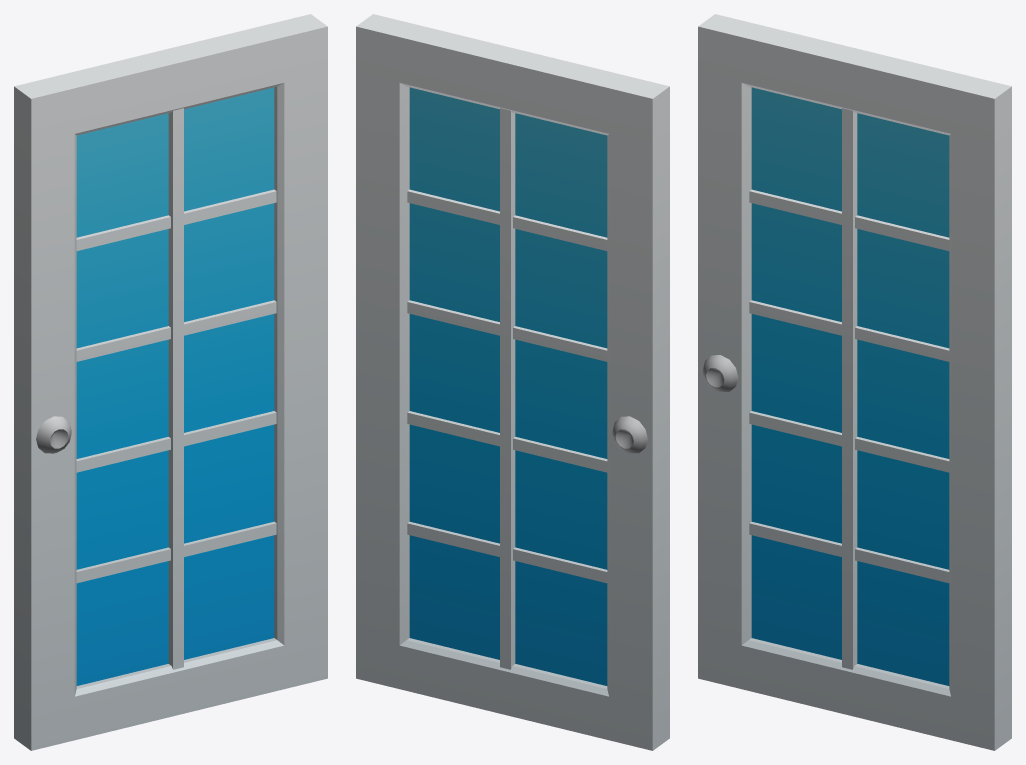
Rendered from Door_White_06.glb.
3 renders of one model, left to right at view 1: azimuth 30°, elevation 25°; view 2: azimuth 150°, elevation 25°; view 3: azimuth 330°, elevation 25°, orthographic.
Parts seen in each view (by area): view 1: Door_White_06; view 2: Door_White_06; view 3: Door_White_06.
Part boxes in pixels (bbox=[...]): Door_White_06: bbox=[14, 14, 327, 750]; Door_White_06: bbox=[356, 14, 669, 750]; Door_White_06: bbox=[698, 14, 1011, 750].
Size of the model in its own units: 1 by 2.1 by 0.1634.
2 materials, 2 textured.
